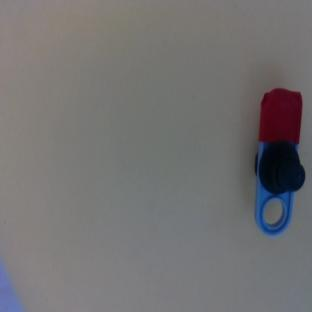part_1_good: (254, 88, 305, 235)
